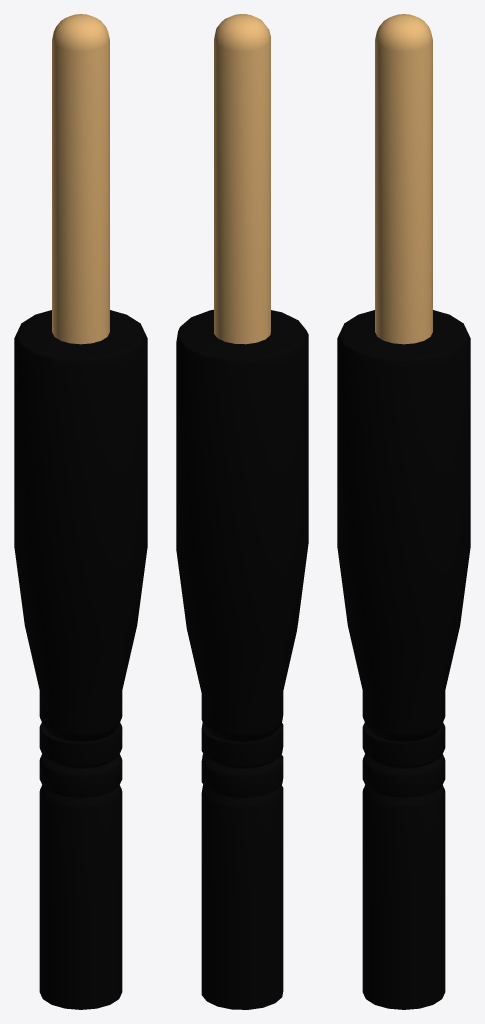
Rendered from cableTOP_black.fbx.
3 views of the same model, side by side, from view 1: azimuth 90°, elevation 25°; view 2: azimuth 210°, elevation 25°; view 3: azimuth 270°, elevation 25° (orthographic).
Visible parts, largest first — view 1: Cylinder.002; view 2: Cylinder.002; view 3: Cylinder.002.
Boxes of the visible parts, bbox=[...] form: Cylinder.002: bbox=[14, 14, 147, 1009]; Cylinder.002: bbox=[176, 14, 308, 1009]; Cylinder.002: bbox=[337, 14, 470, 1009].
Size of the model in its own units: 11.02 by 88.85 by 11.02.
